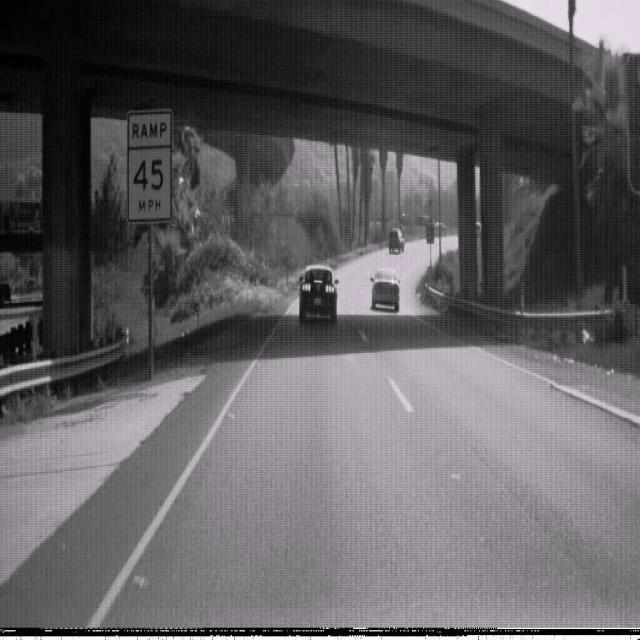speedLimit45: (126, 107, 173, 224)
